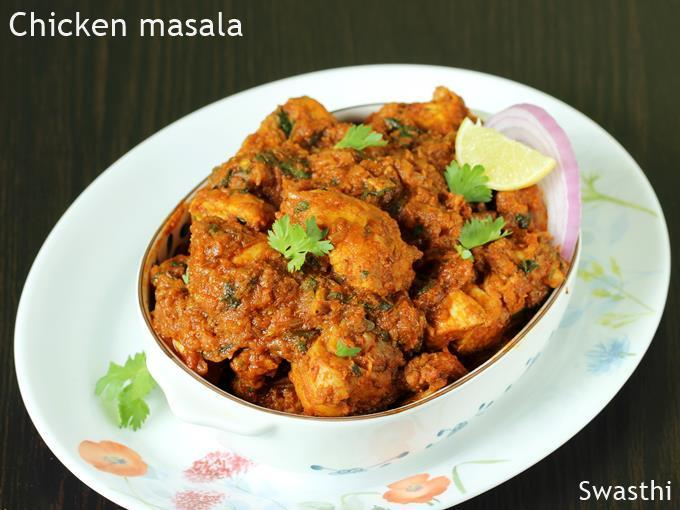chicken: (213, 114, 540, 391)
